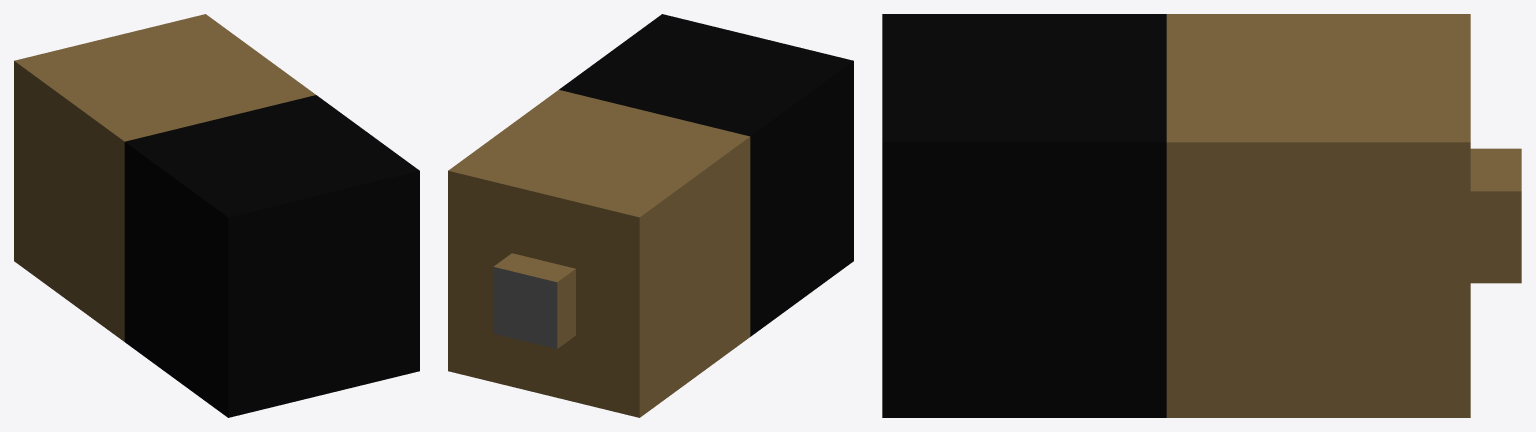
The model's file is GoodBattery.fbx.
3 views of the same model, side by side, from view 1: azimuth 30°, elevation 25°; view 2: azimuth 150°, elevation 25°; view 3: azimuth 270°, elevation 25° (orthographic). The views are drawn at different scales.
Visible parts, largest first — view 1: pCube7; view 2: pCube7; view 3: pCube7.
Part boxes in pixels (left/top/right/bottom): pCube7: left=14, top=14, right=419, bottom=417; pCube7: left=448, top=14, right=853, bottom=417; pCube7: left=882, top=14, right=1521, bottom=417.
Bounding box in the file's own units: 1 × 1 × 2.1.
